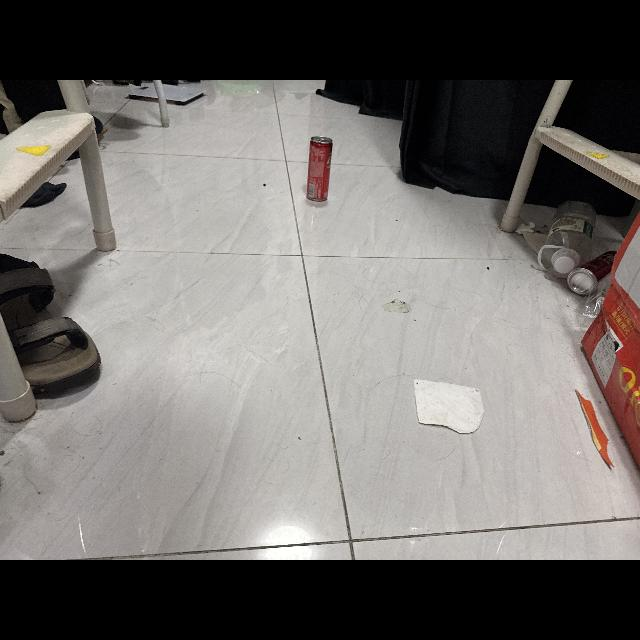Cola: (304, 130, 338, 206)
